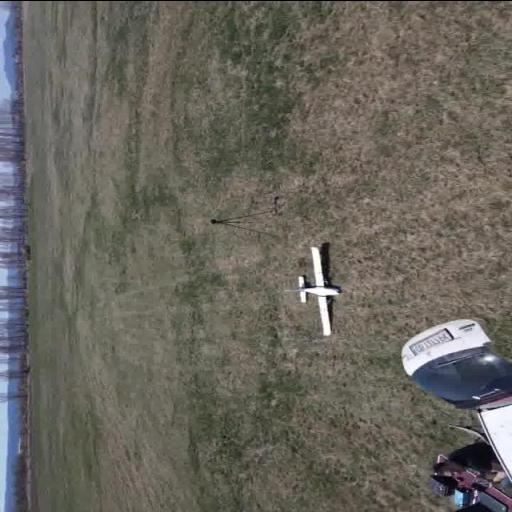uav: (288, 244, 360, 340)
